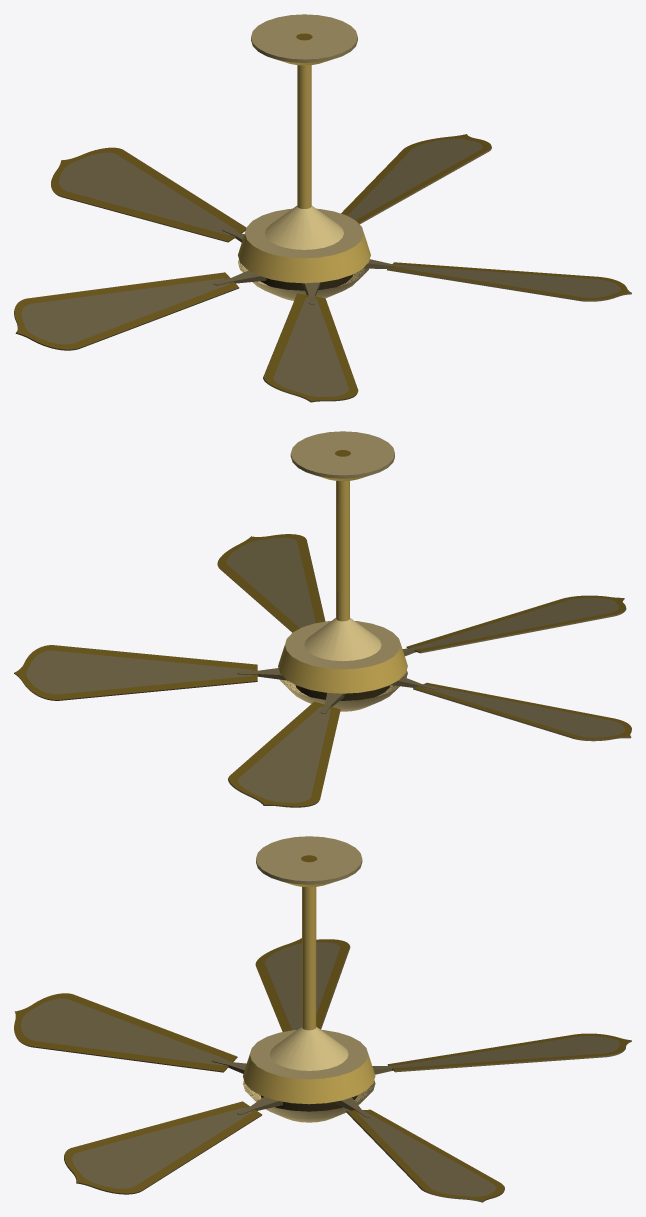
The model's file is ceilingFan.dae.
3 views of the same model, one above another, from view 1: azimuth 30°, elevation 25°; view 2: azimuth 150°, elevation 25°; view 3: azimuth 270°, elevation 25° (orthographic). The views are drawn at different scales.
Parts seen in each view (by area): view 1: group_4 (×10), group_9 (×3), group_11 (×3), group_12; view 2: group_4 (×10), group_9 (×3), group_11 (×3), group_12; view 3: group_4 (×11), group_9 (×3), group_11 (×2), group_12.
Boxes of the visible parts, x1,y1,x2,y2 form: group_4 (×10): (14,134,631,401); group_9 (×3): (251,14,357,249); group_11 (×3): (238,208,370,290); group_12: (238,259,368,300); group_4 (×10): (14,534,631,806); group_9 (×3): (290,431,394,660); group_11 (×3): (278,621,407,700); group_12: (280,670,407,711); group_4 (×11): (14,938,631,1201); group_9 (×3): (256,836,362,1070); group_11 (×2): (243,1030,375,1104); group_12: (243,1080,375,1122).
Size of the model in its own units: 44.18 by 43.66 by 19.97.
